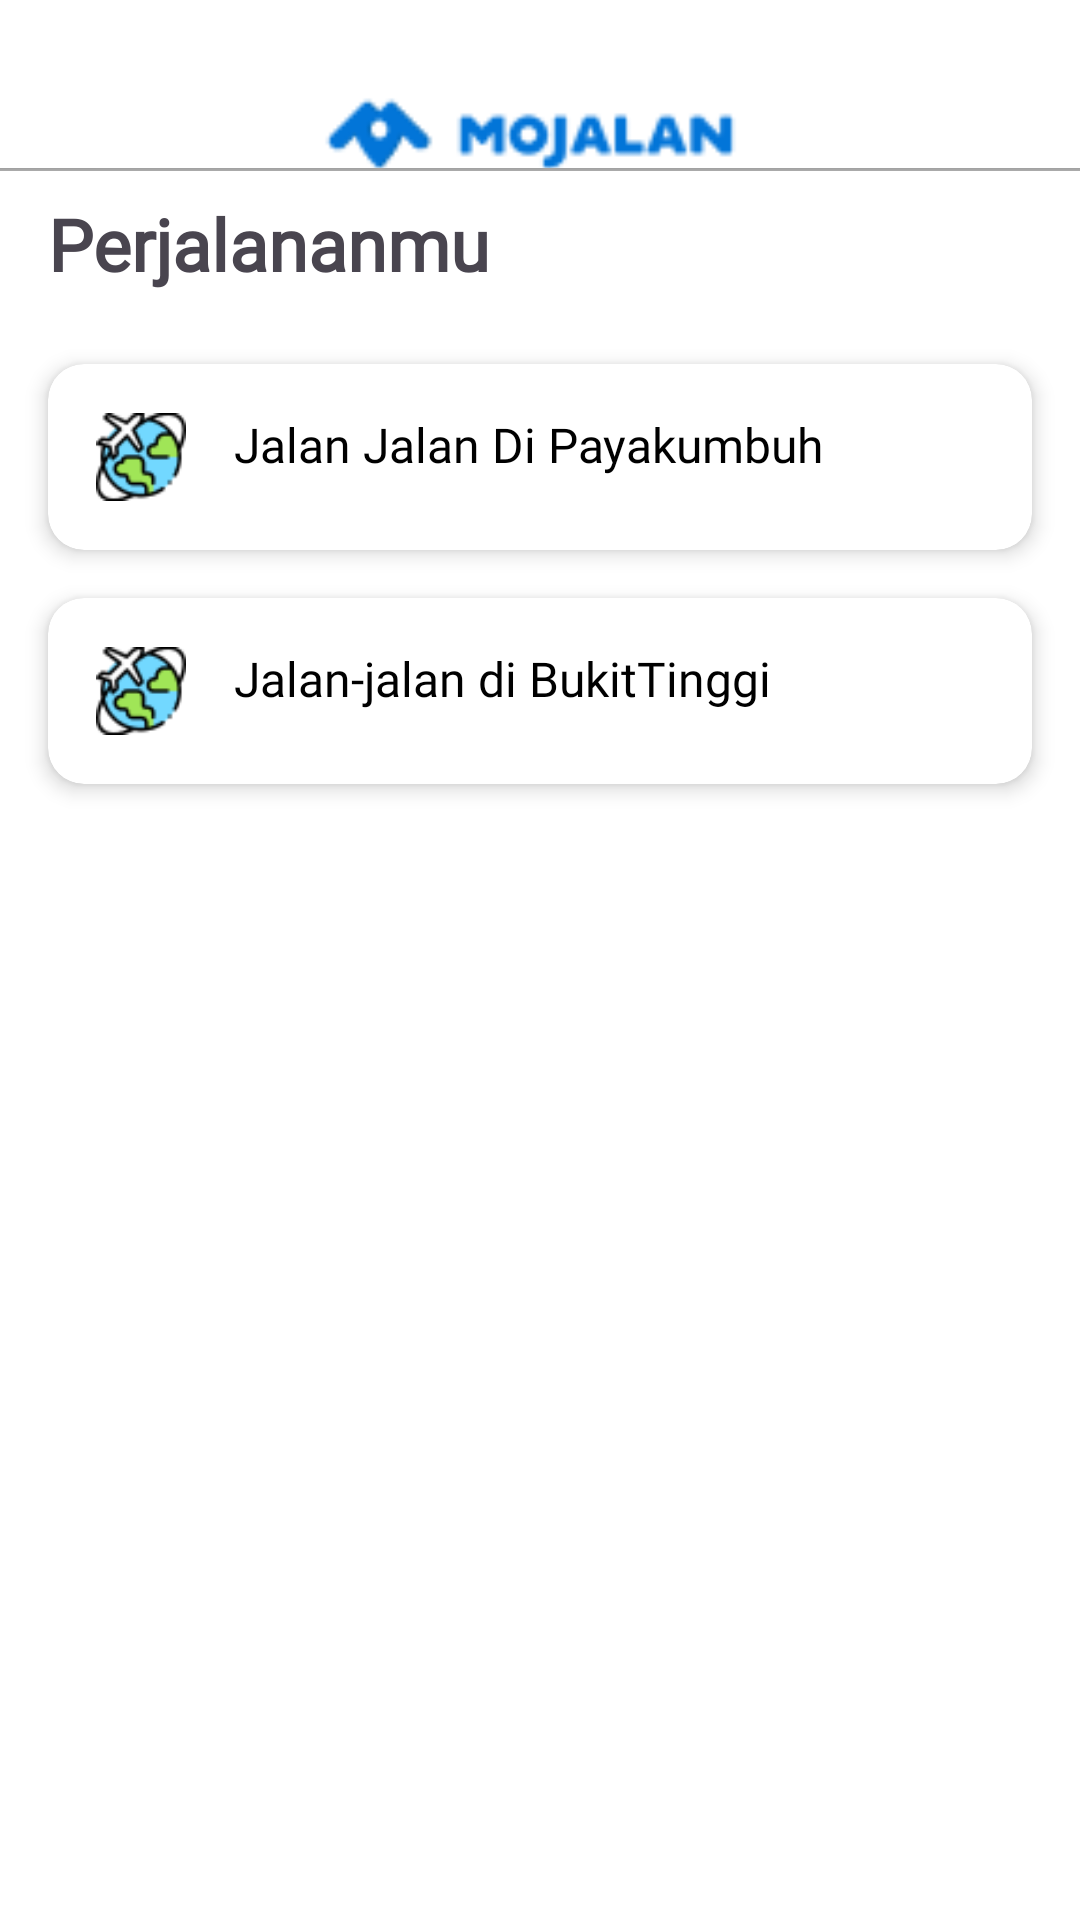

Named icons in this screenshot (1080px x 1920px) and their bounding boxes, (x1, y1, x2, y2):
Trip Icon: (96, 413, 186, 501), (96, 647, 186, 735)
